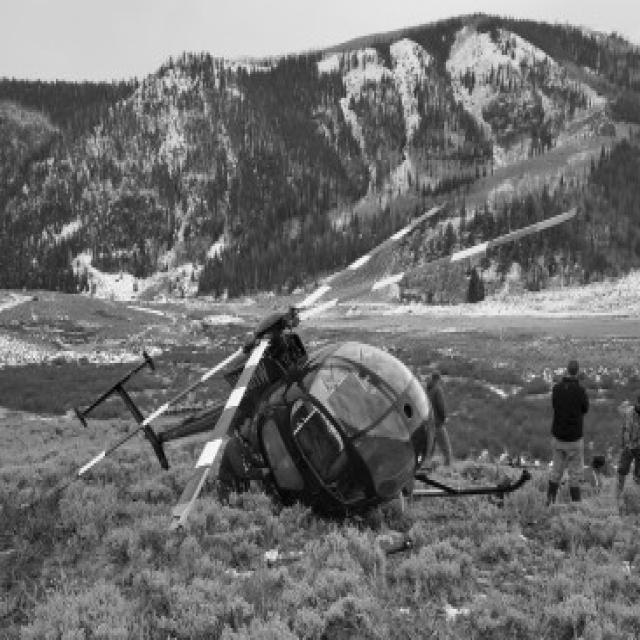helicopter: (95, 202, 538, 500)
